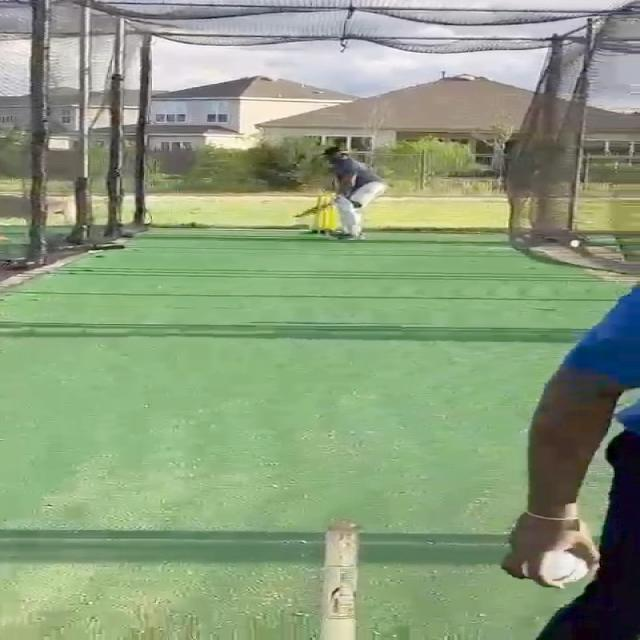batsman: (290, 145, 390, 242)
